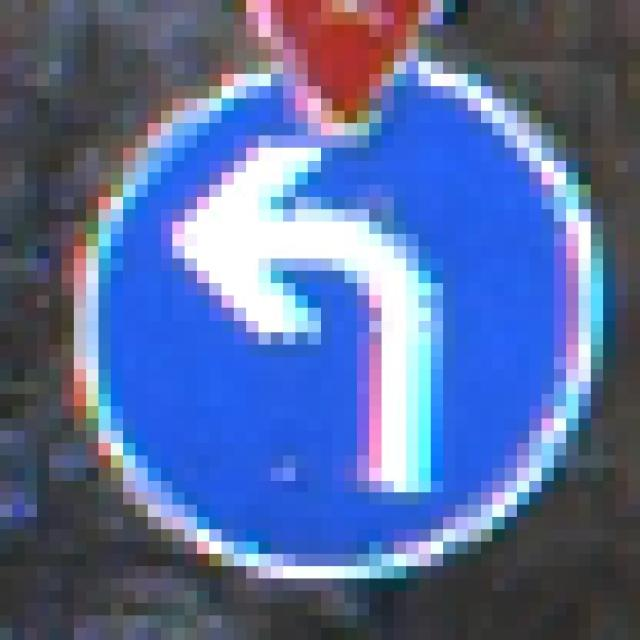Turn left ahead: (24, 37, 616, 603)
